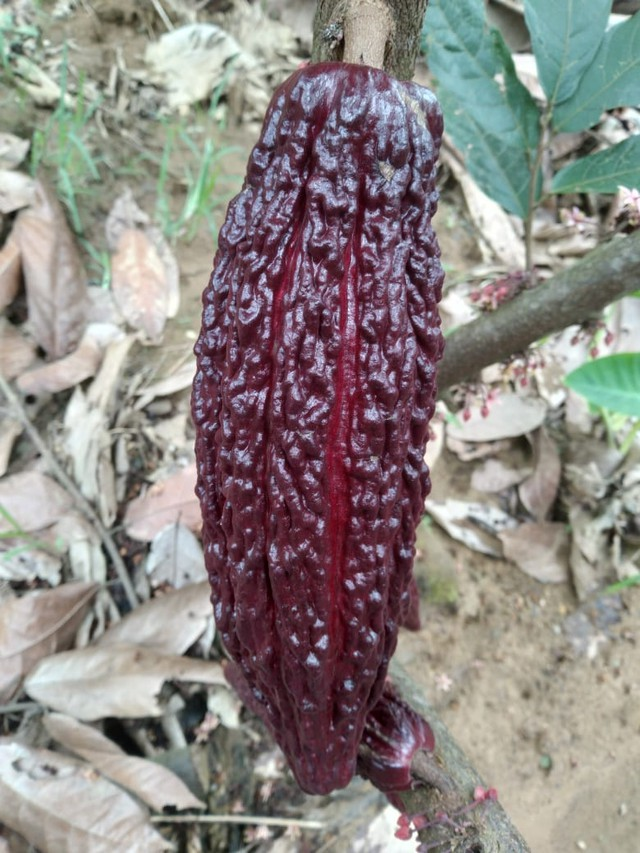Health: (181, 52, 458, 806)
